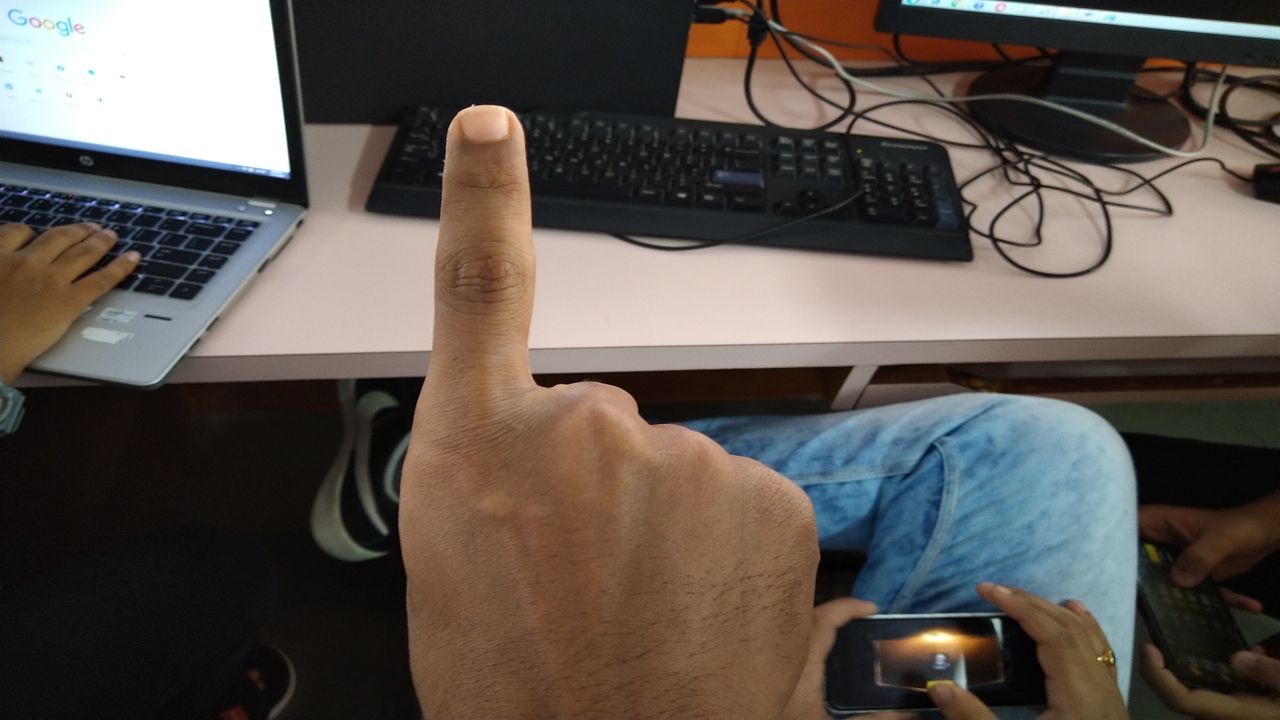fingertip: (442, 100, 526, 168)
